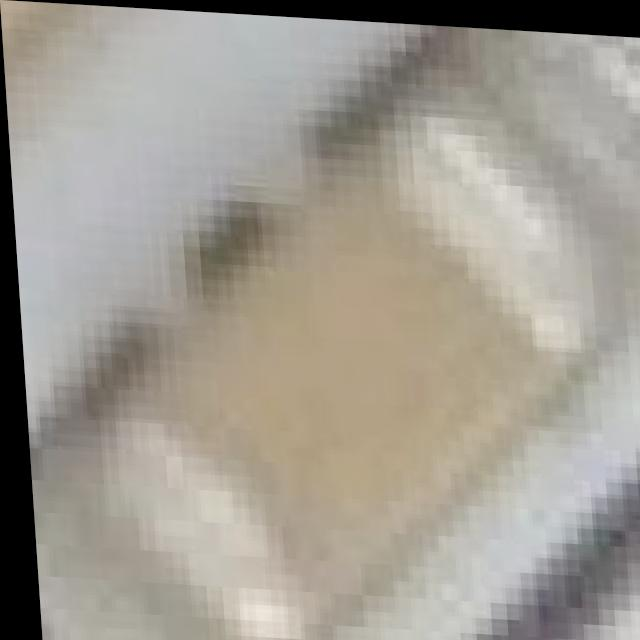capacitor: (23, 18, 640, 640), (0, 0, 128, 132)
